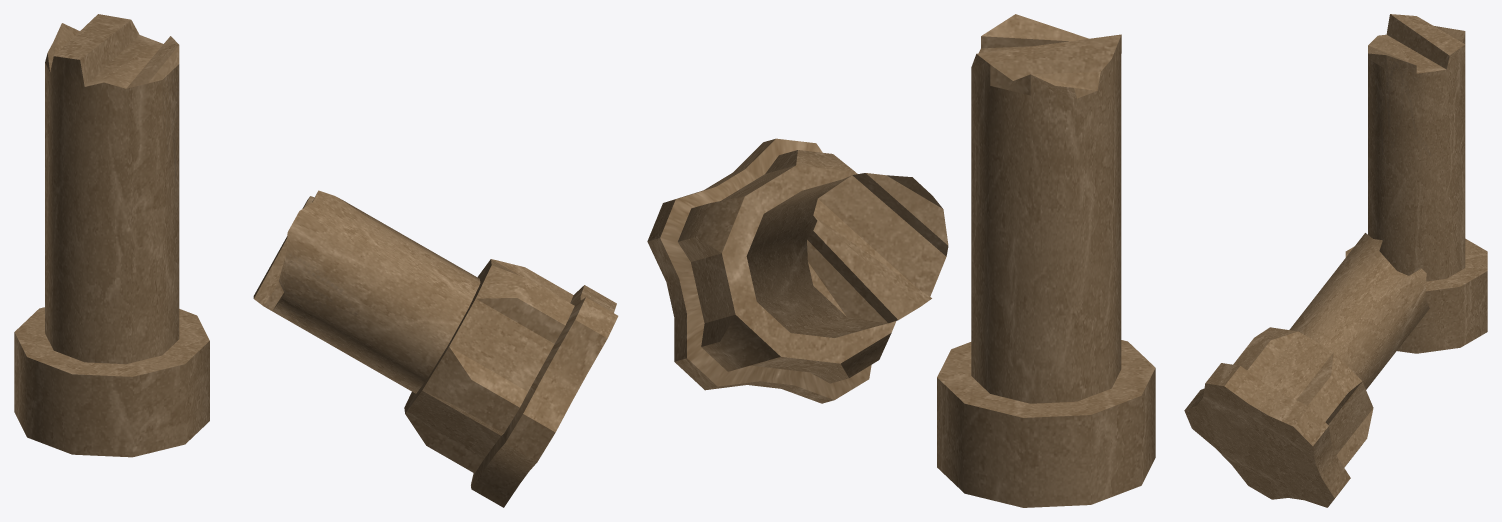
Rendered from pillar_Sandstone_Broken_01.FBX.
3 renders of one model, left to right at view 1: azimuth 30°, elevation 25°; view 2: azimuth 150°, elevation 25°; view 3: azimuth 270°, elevation 25°, orthographic. The views are drawn at different scales.
Visible parts, largest first — view 1: Cylinder003; view 2: Cylinder003; view 3: Cylinder003.
Part boxes in pixels (x1=…): Cylinder003: x1=14, y1=14, x2=618, y2=507; Cylinder003: x1=647, y1=14, x2=1155, y2=507; Cylinder003: x1=1184, y1=14, x2=1487, y2=507.
Bounding box in the file's own units: 193 × 170 × 131.
